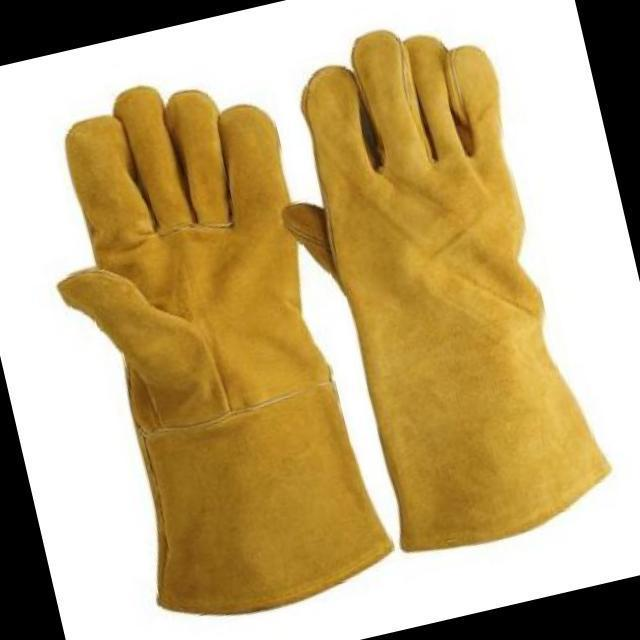Gloves: (54, 23, 612, 614)
